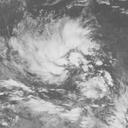cyclone: (26, 22, 103, 100)
